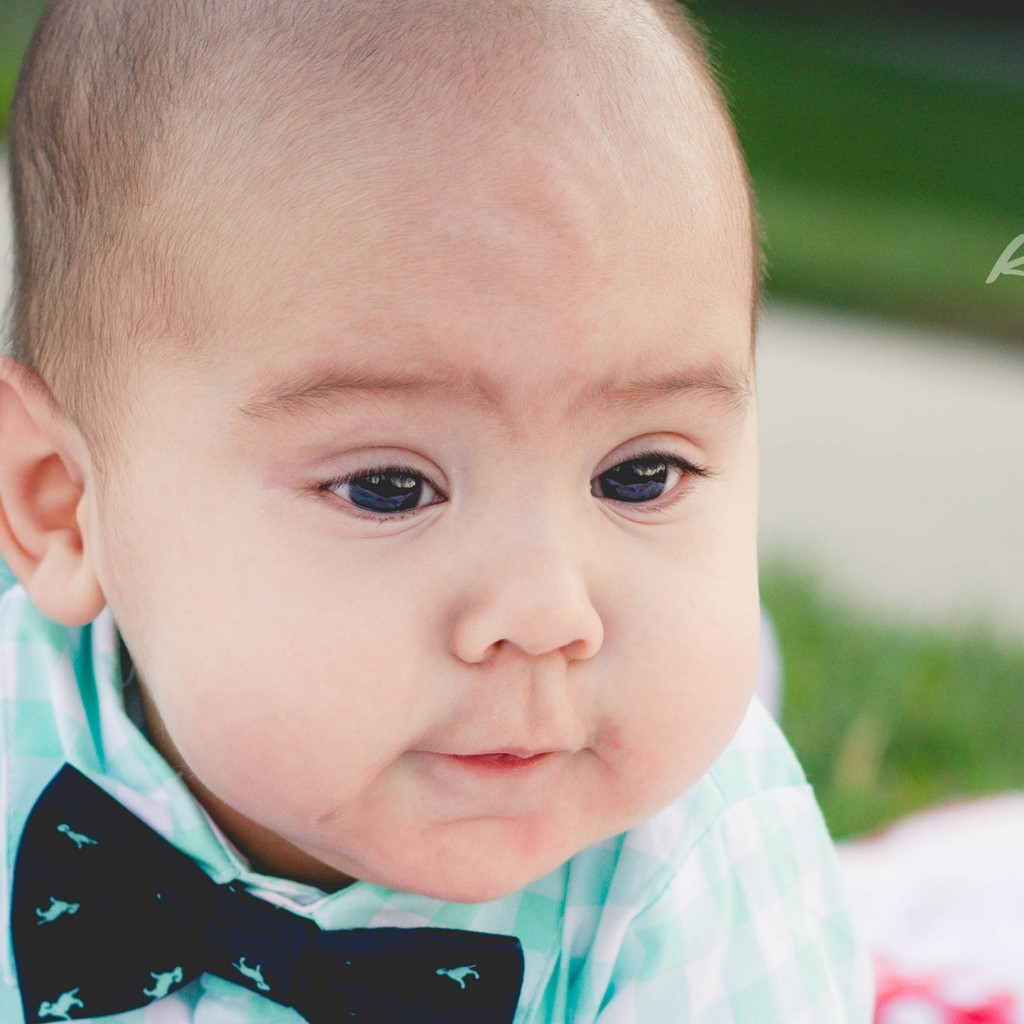sin_mascara: (35, 5, 762, 903)
